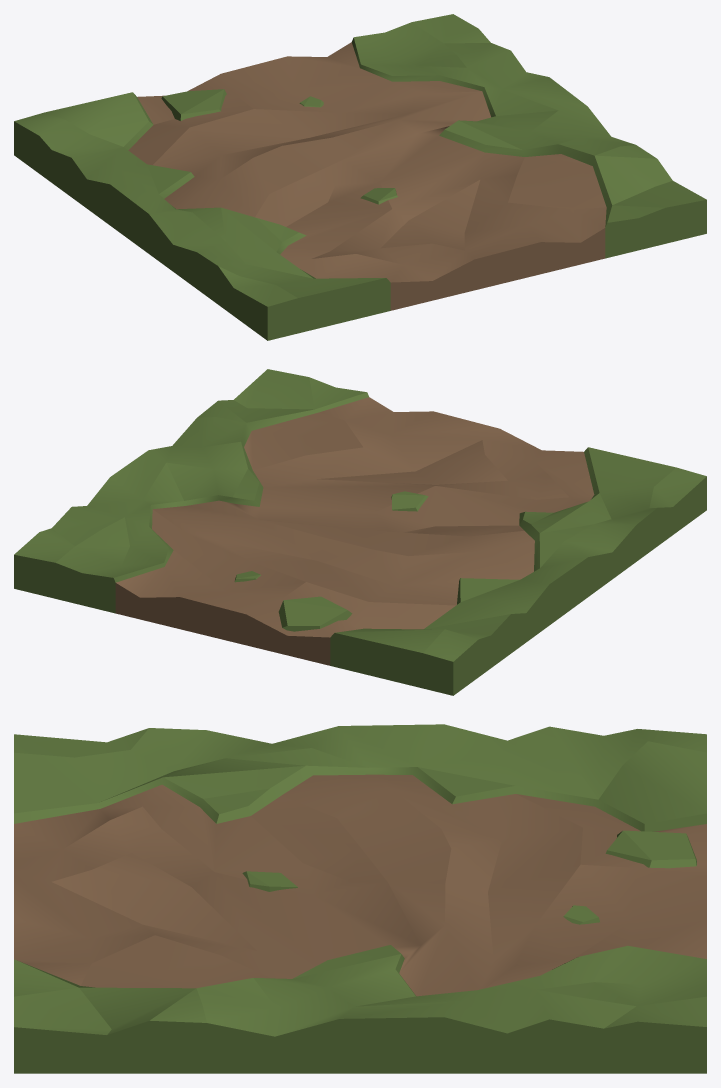
The model's file is Ground_Path_V.glb.
3 renders of one model, top to bottom at view 1: azimuth 30°, elevation 25°; view 2: azimuth 150°, elevation 25°; view 3: azimuth 270°, elevation 25°, orthographic. The views are drawn at different scales.
Parts seen in each view (by area): view 1: Ground_Path_V; view 2: Ground_Path_V; view 3: Ground_Path_V.
Boxes of the visible parts, bbox=[...] form: Ground_Path_V: bbox=[14, 14, 706, 340]; Ground_Path_V: bbox=[14, 369, 706, 695]; Ground_Path_V: bbox=[14, 724, 706, 1073].
Size of the model in its own units: 1.47 by 0.1393 by 1.47.
